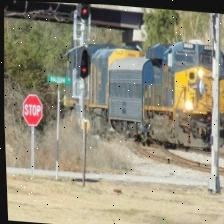Stop: (21, 92, 43, 126)
